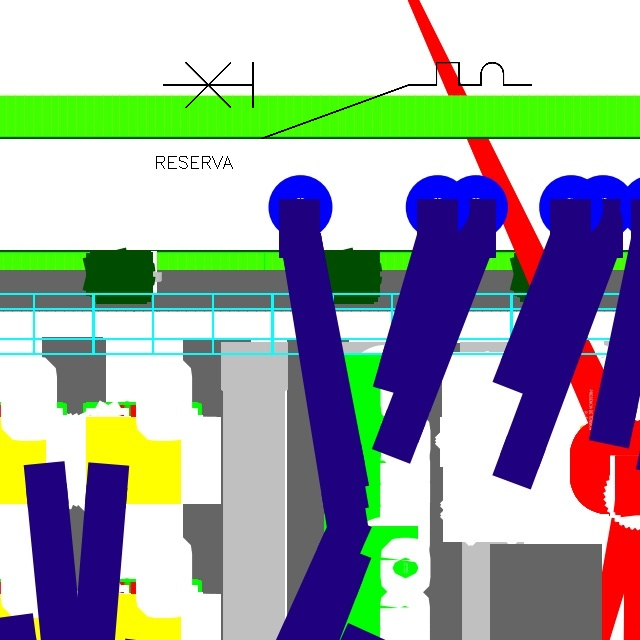interruptor_termomagnetico: (154, 53, 541, 147)
